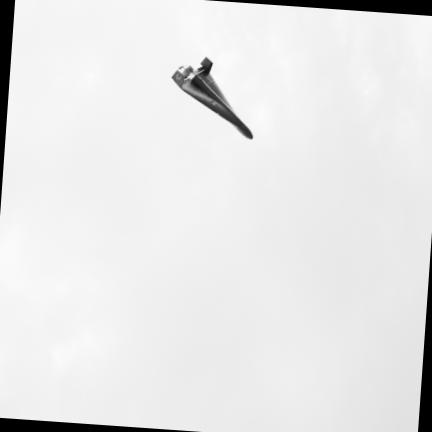Shahed: (172, 56, 251, 137)
